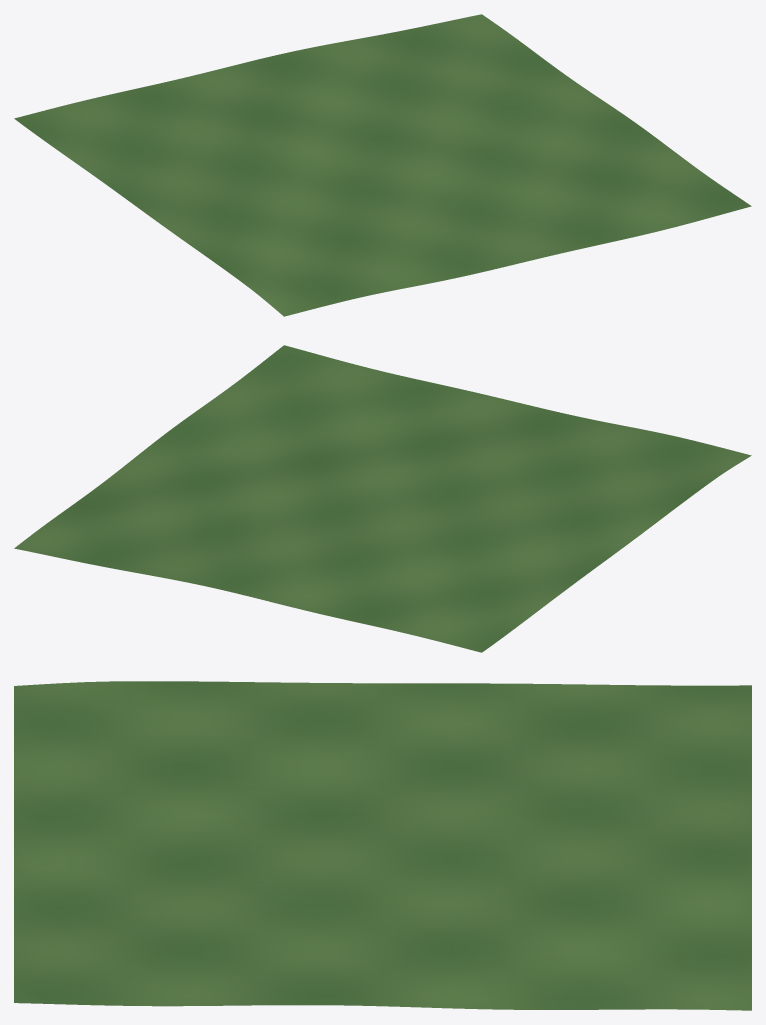
File: chunk_6_1.glb
3 renders of one model, top to bottom at view 1: azimuth 30°, elevation 25°; view 2: azimuth 150°, elevation 25°; view 3: azimuth 270°, elevation 25°, orthographic. The views are drawn at different scales.
Size of the model in its own units: 512 by 13.45 by 512.
